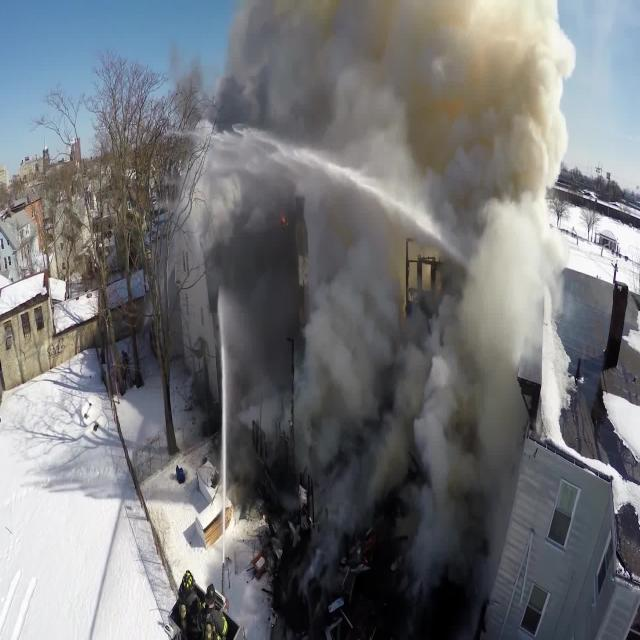Smoke: (116, 0, 568, 594)
